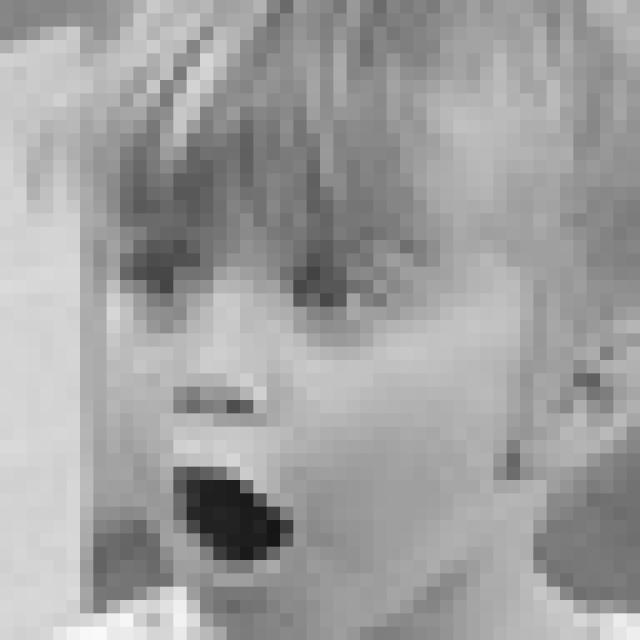surprise: (109, 205, 468, 614)
